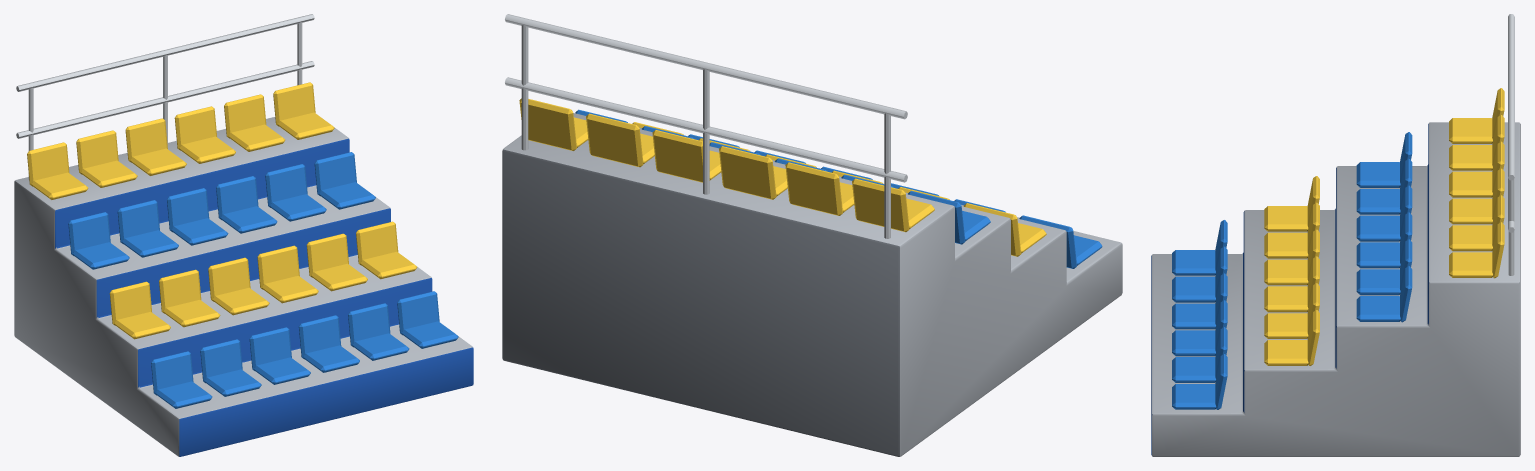
File: arquibancada_reta.glb
3 renders of one model, left to right at view 1: azimuth 30°, elevation 25°; view 2: azimuth 150°, elevation 25°; view 3: azimuth 270°, elevation 25°, orthographic. The views are drawn at different scales.
Parts seen in each view (by area): view 1: arquibancada_reta; view 2: arquibancada_reta; view 3: arquibancada_reta.
Part boxes in pixels (bbox=[...]): arquibancada_reta: bbox=[14, 14, 473, 456]; arquibancada_reta: bbox=[502, 14, 1122, 456]; arquibancada_reta: bbox=[1151, 14, 1520, 456].
Bounding box in the file's own units: 3.3 × 2.71 × 3.2.
Materials: 1 (1 with a texture image).
